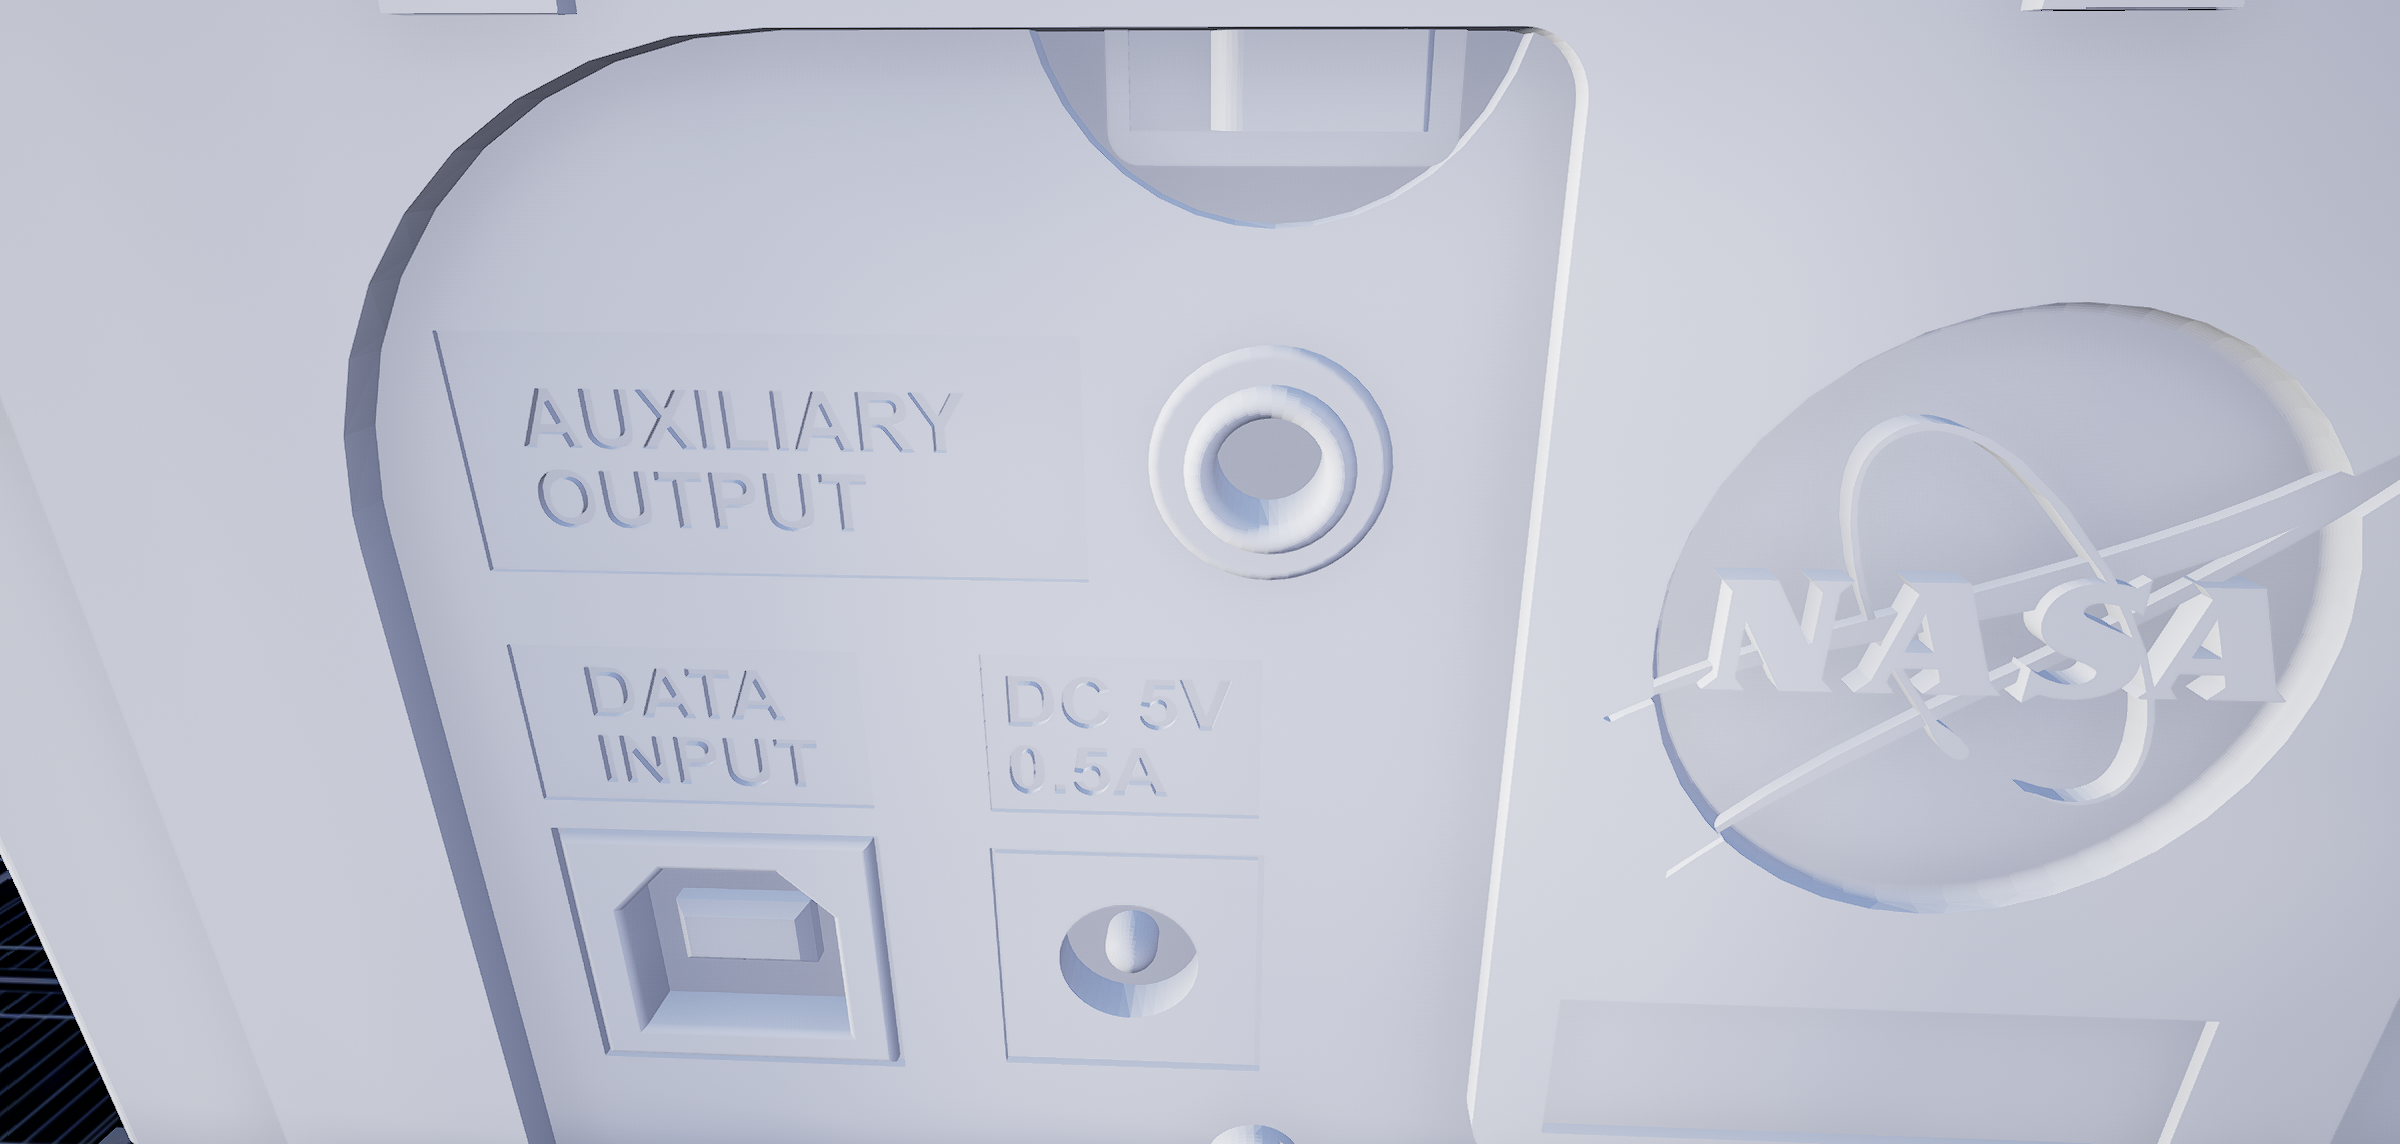aux: (1130, 328, 1407, 599)
dc: (1052, 888, 1211, 1035)
usb: (600, 855, 865, 1054)
